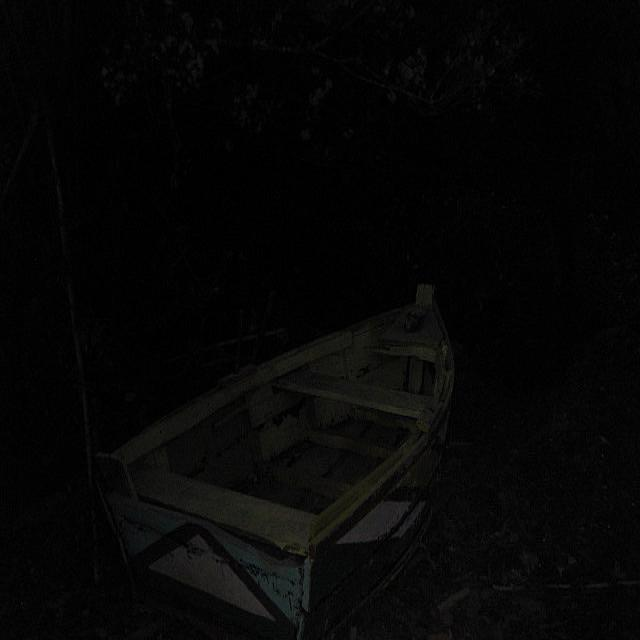Boat: (91, 253, 471, 640)
